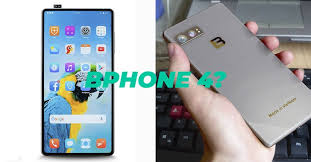bphone: (160, 1, 311, 151), (38, 6, 115, 156)
